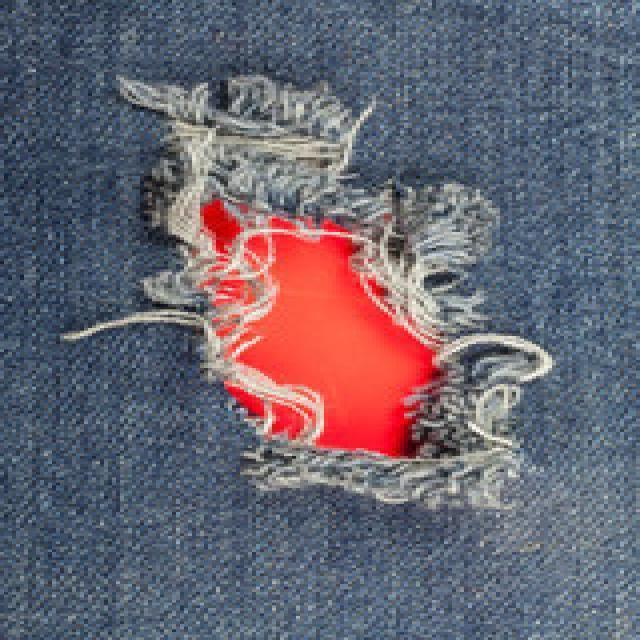Hole: (62, 75, 554, 509)
